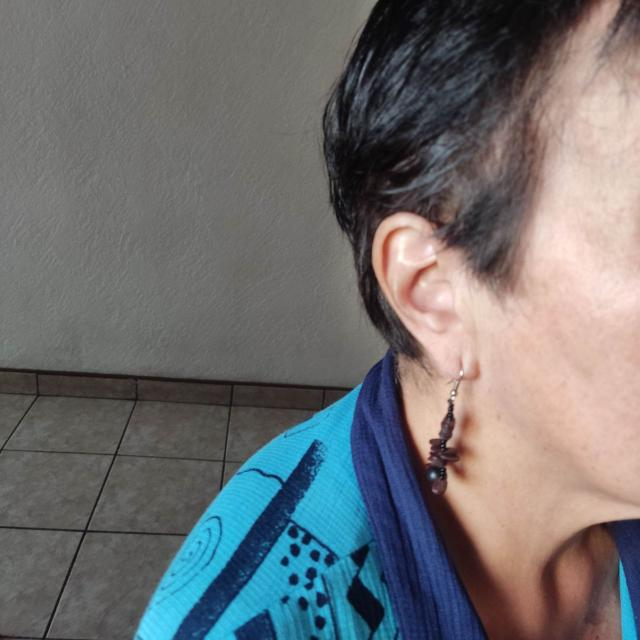ear: (372, 212, 481, 380)
